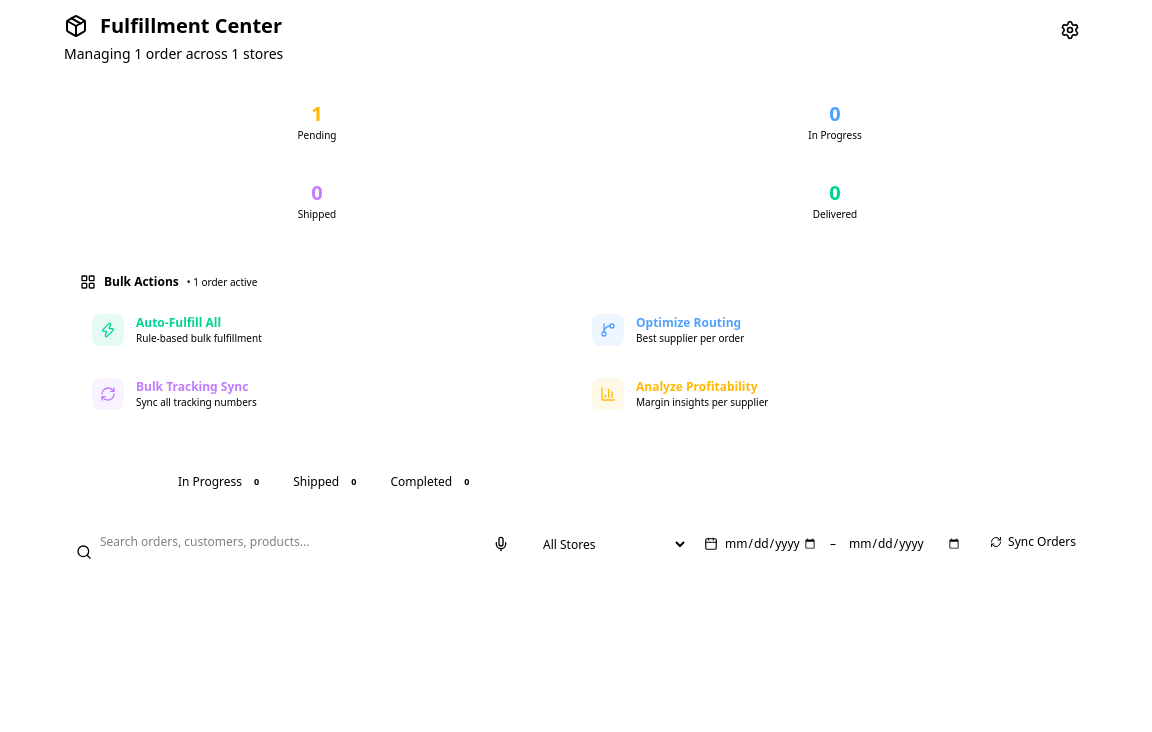
Test: FulfillmentPage › tab switching works
Click the button "In Progress 0" at [222, 482], box [166,466,277,498]
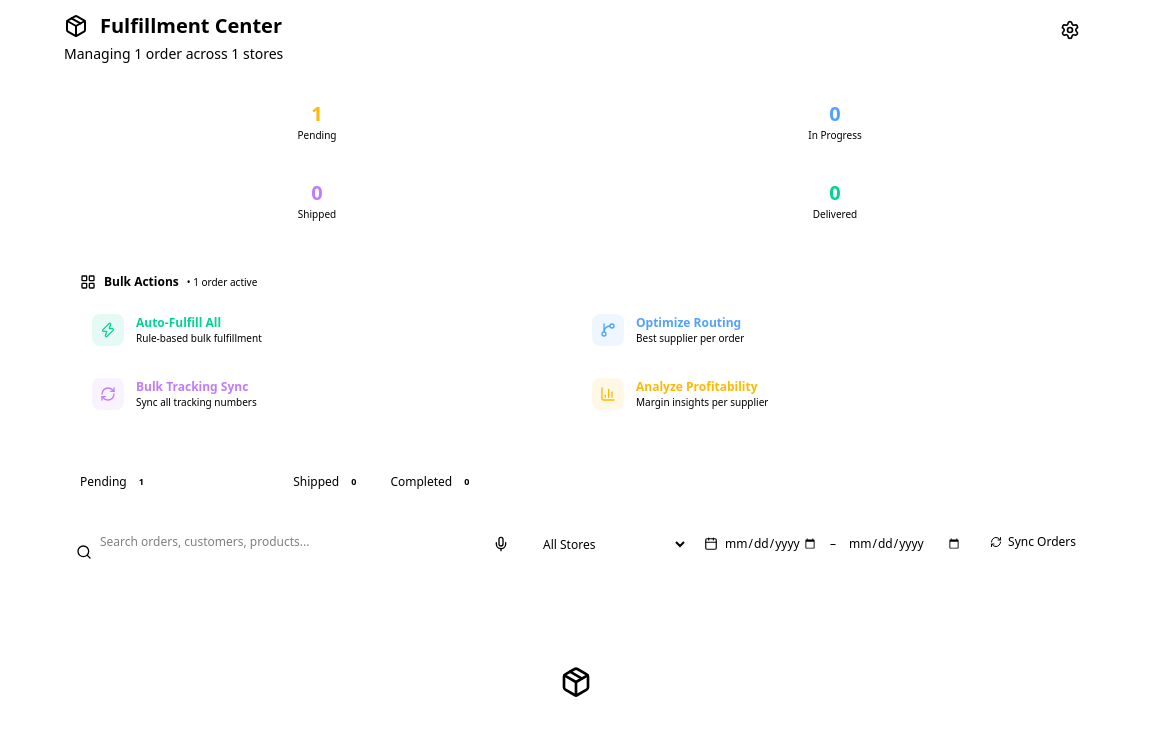
Expected: the text "ORD-001" is not shown
Click the button "Pending 1" at [115, 482], box [68,466,162,498]
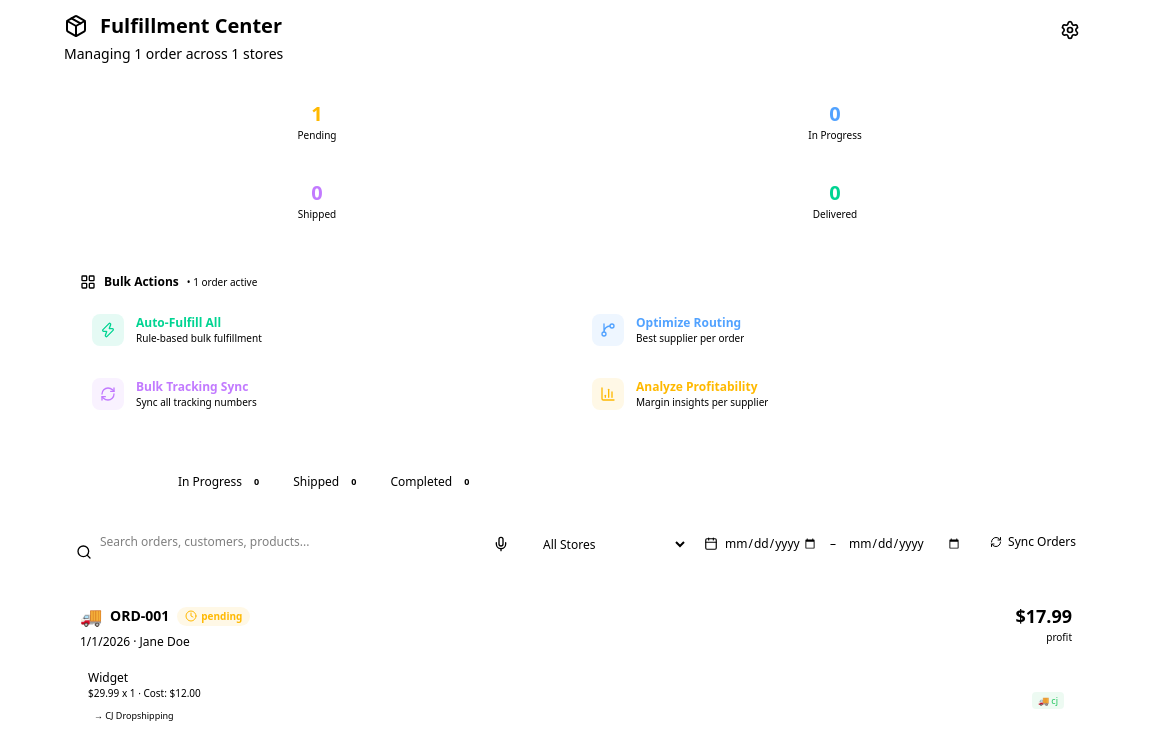
Now the link "ORD-001" is shown, box [110,606,169,626]
